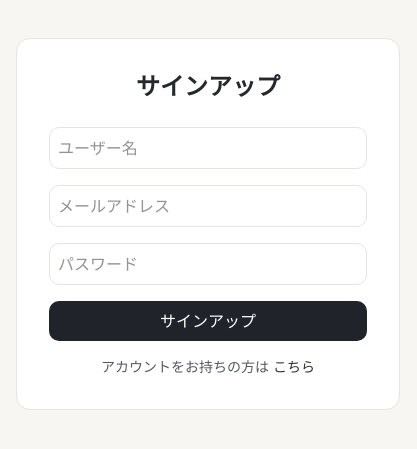
Scenario: SignUpPage › 既存のメルアドを使用した場合にエラーが出る
This screenshot has width=417, height=449.
Click the button. click: (208, 321)
box: [49, 301, 367, 341]
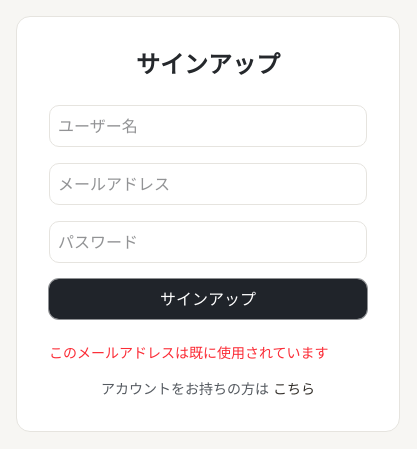
Expected: the text "このメールアドレスは既に使用されています" is shown, [49, 343, 367, 363]
